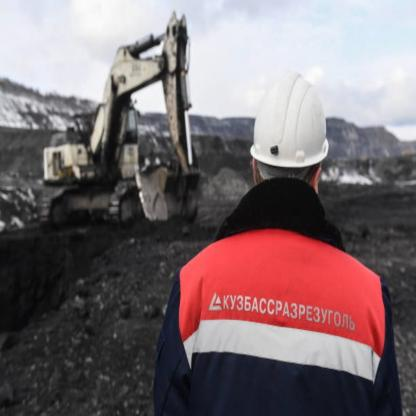excavator: (33, 9, 206, 239)
person: (154, 52, 411, 416)
